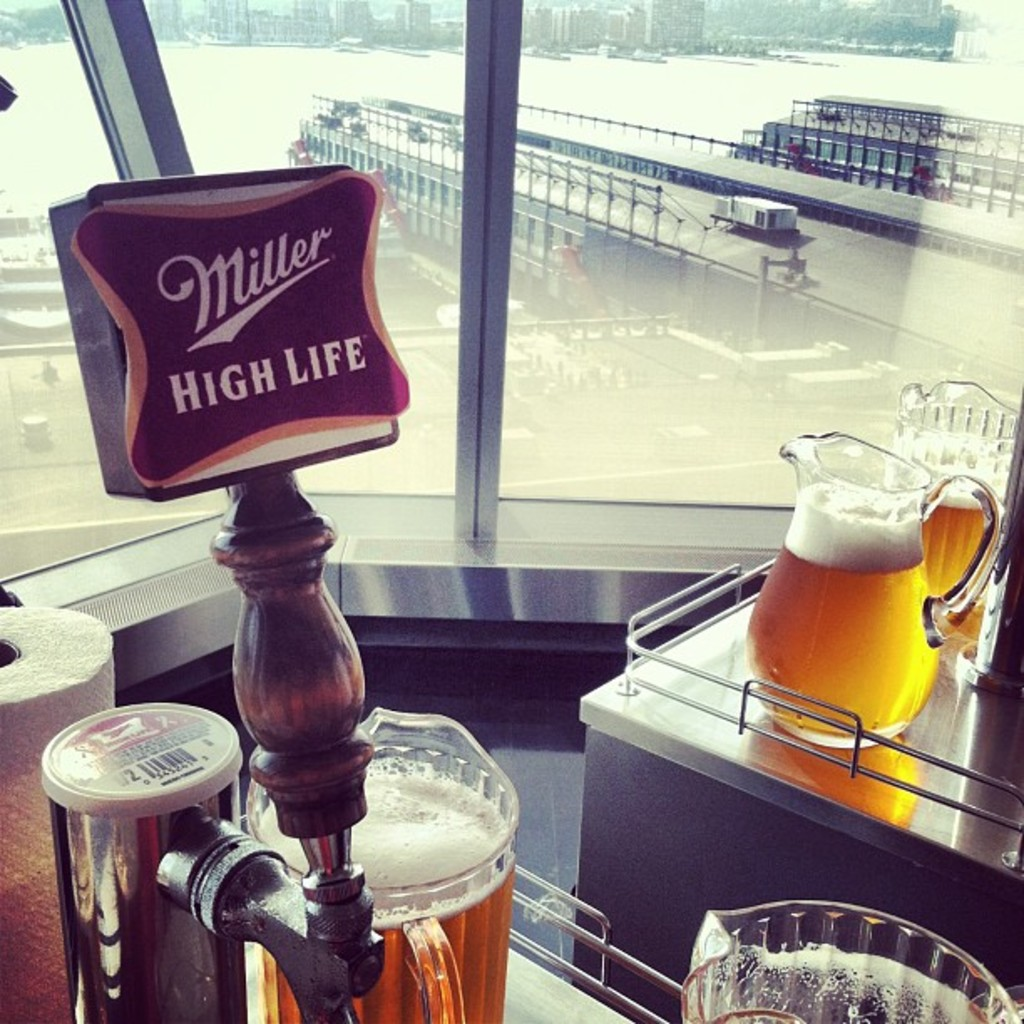Beer: (267, 757, 515, 1022), (737, 485, 921, 742), (926, 440, 1002, 619)
